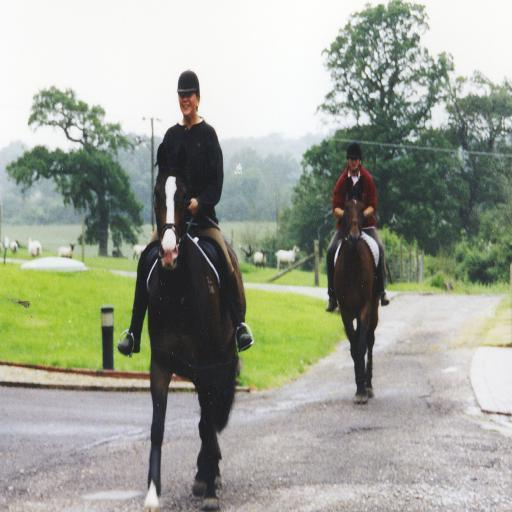horse: (144, 141, 240, 511), (332, 189, 380, 403)
